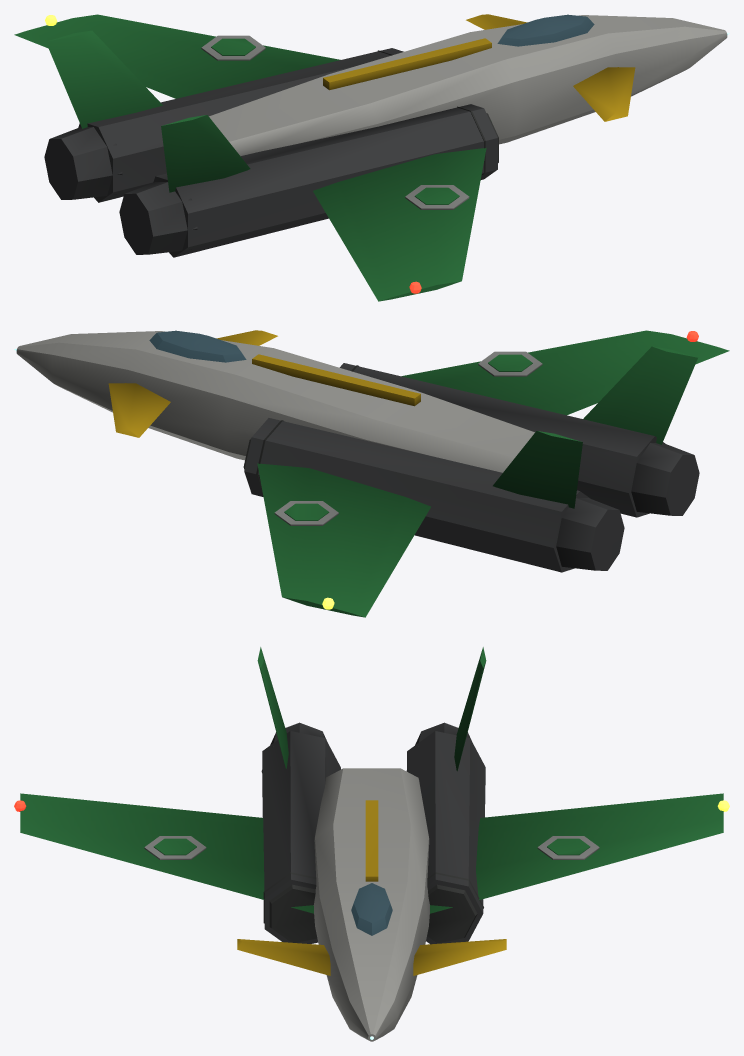
Rendered from u_raijinJ_lod1.glb.
3 views of the same model, one above another, from view 1: azimuth 30°, elevation 25°; view 2: azimuth 150°, elevation 25°; view 3: azimuth 270°, elevation 25° (orthographic). The views are drawn at different scales.
Parts seen in each view (by area): view 1: RaijinJ_LOD1_Walls, RaijinJ_LOD1_Details; view 2: RaijinJ_LOD1_Walls, RaijinJ_LOD1_Details; view 3: RaijinJ_LOD1_Walls, RaijinJ_LOD1_Details.
Part boxes in pixels (bbox=[...]): RaijinJ_LOD1_Walls: bbox=[14, 14, 727, 301]; RaijinJ_LOD1_Details: bbox=[44, 14, 729, 293]; RaijinJ_LOD1_Walls: bbox=[16, 330, 729, 617]; RaijinJ_LOD1_Details: bbox=[14, 330, 699, 609]; RaijinJ_LOD1_Walls: bbox=[20, 647, 723, 1041]; RaijinJ_LOD1_Details: bbox=[14, 722, 729, 1039].
Bounding box in the file's own units: 1.36 × 0.3082 × 1.38.
